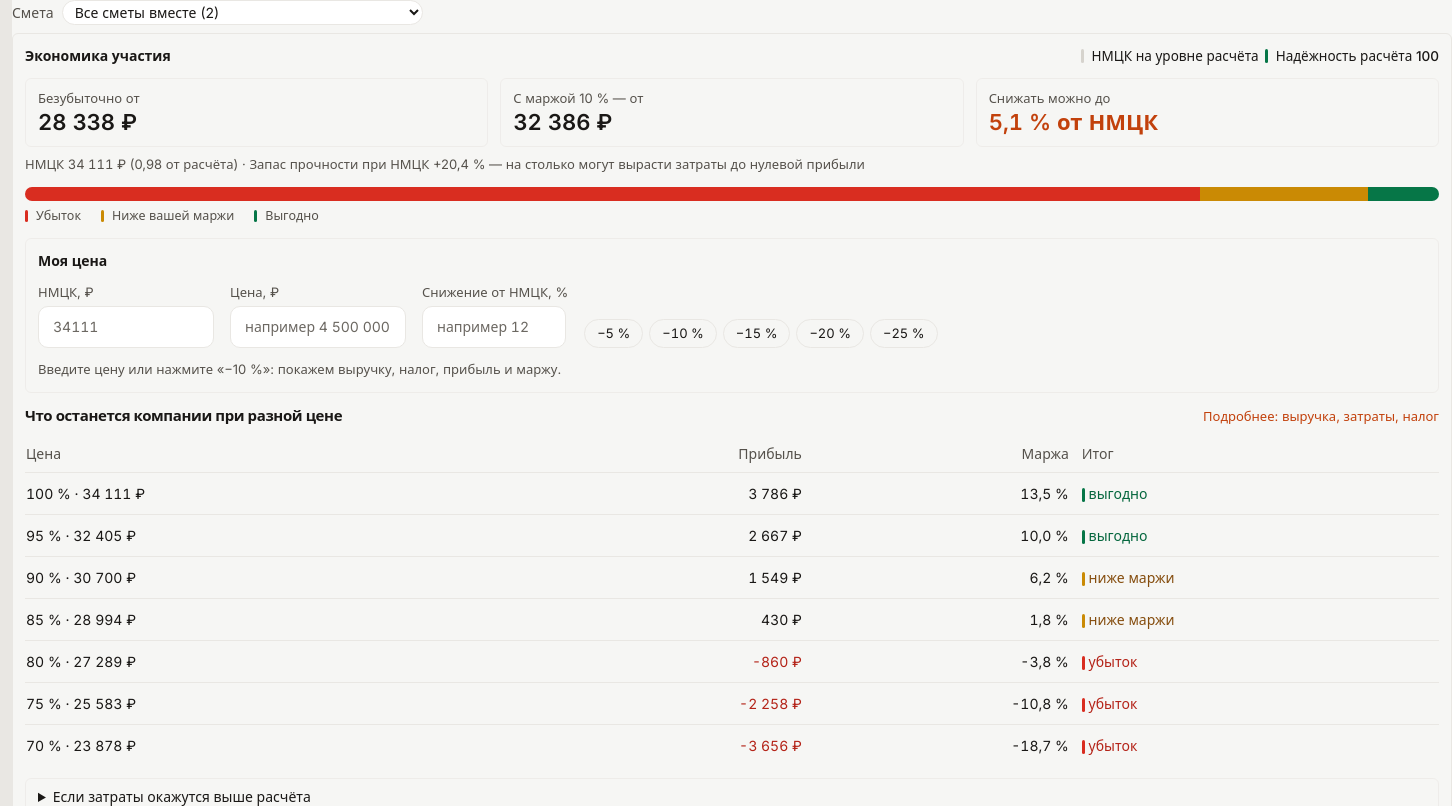
AuditBidEconomics › несколько смет: по умолчанию — итог по всем; выбор одной сметы остаётся, у каждого выбора своё состояние
expect the dropdown named "Смета заказчика для расчёта цены" shows "Все сметы вместе (2)": met, box [62,0,423,25]
Click the button "−10 %". click: (683, 333)
box: [649,318,717,348]
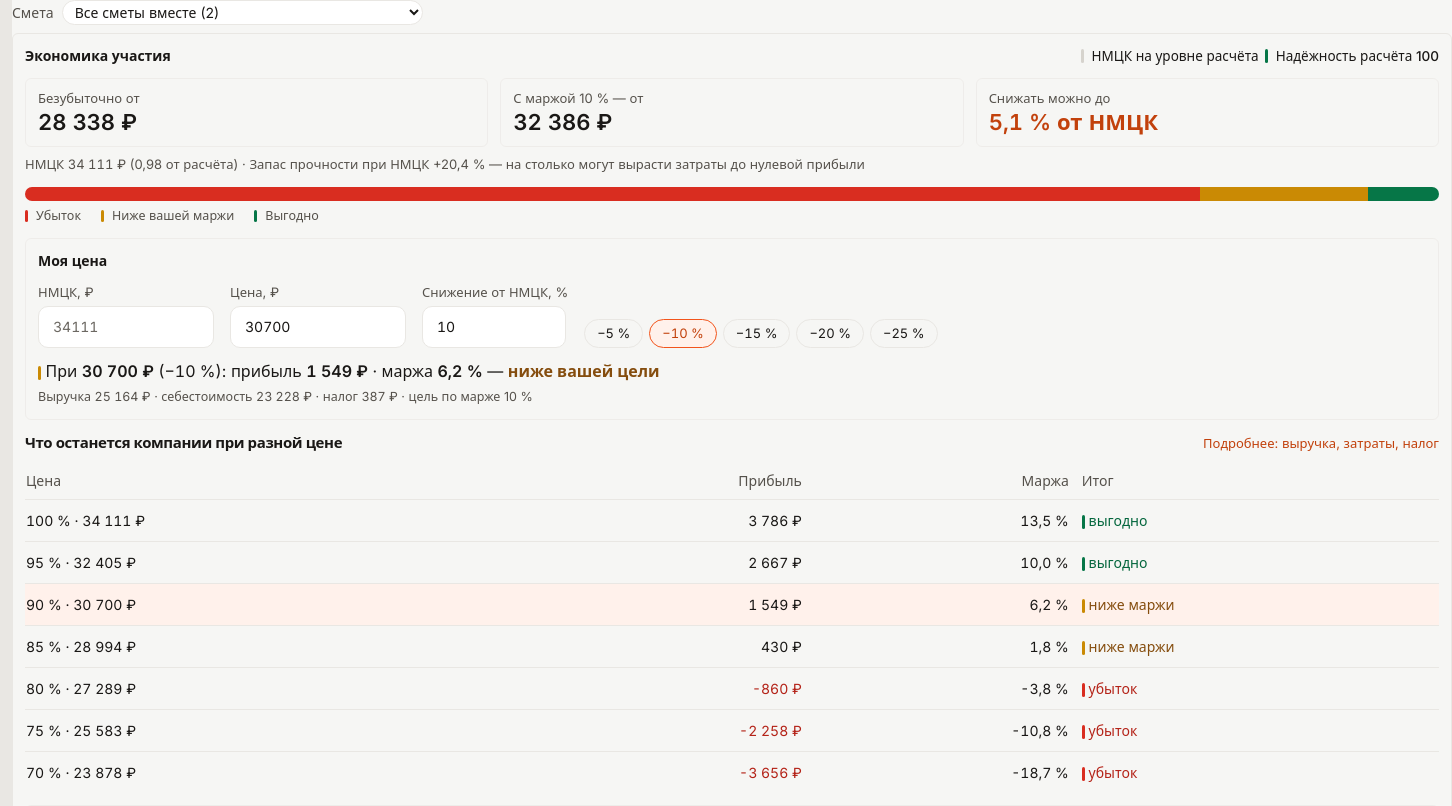
expect the element with test id "my-price-result" is shown: met, box [38,361,660,404]
Select "ЛСР 701-702 (Локальный сметный расчет.xlsx)" in the dropdown named "Смета заказчика для расчёта цены". click: (242, 12)
box: [62,0,423,25]
(page scrolled)
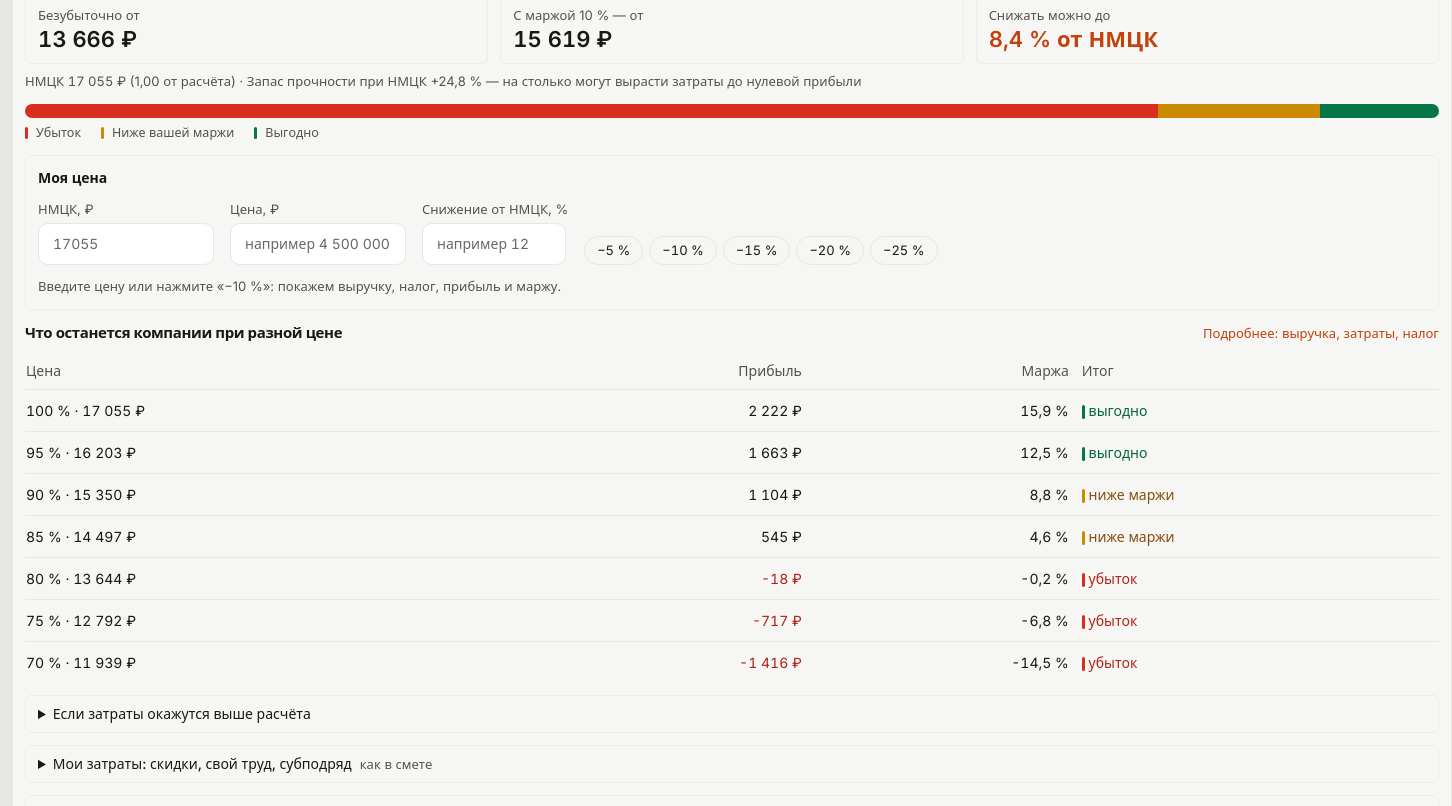
expect the element with test id "my-price-result" is gone: met
